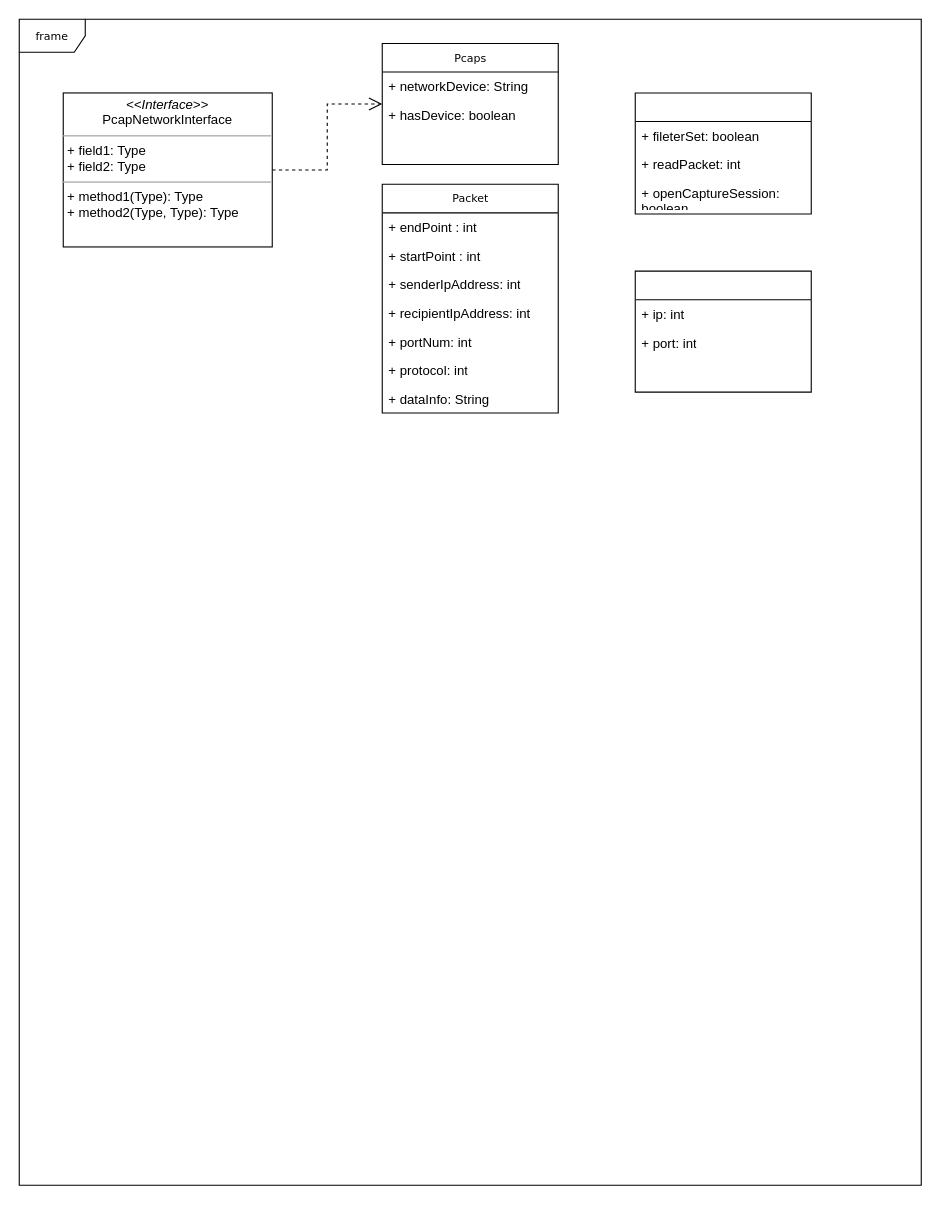
The diagram is 941 pixels wide and 1205 high, and some of its shapes have lost their labels. The box of each missing label's shape, as (x1, y1, x2, y2) in pixels:
PcapHandle: (634, 92, 811, 214)
TcpPacket: (634, 270, 811, 392)
